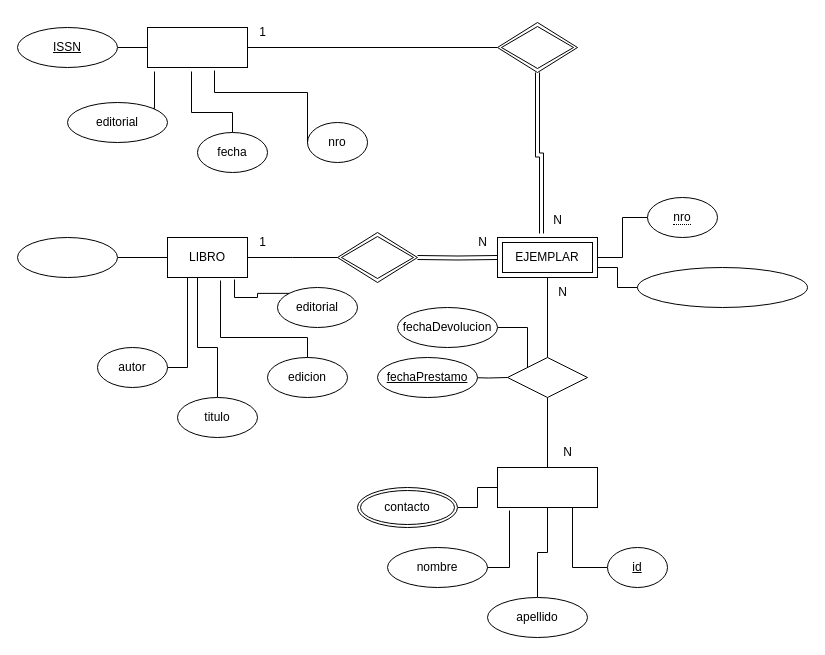
The diagram is 825 pixels wide and 655 high, and some of its shapes have lost their labels. The box of each missing label's shape, as (x1, y1, x2, y2) in pixels:
autorizadoParaPrestamo: (636, 266, 808, 308)
ISBN: (16, 236, 118, 278)
Posee: (496, 22, 578, 72)
Prestado a: (506, 356, 588, 398)
REVISTA: (146, 26, 248, 68)
Tiene: (336, 232, 418, 282)
USUARIO: (496, 466, 598, 508)
